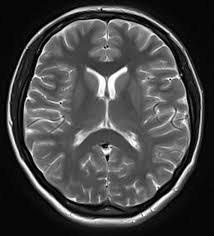Normal_Brain: (1, 2, 214, 236)
